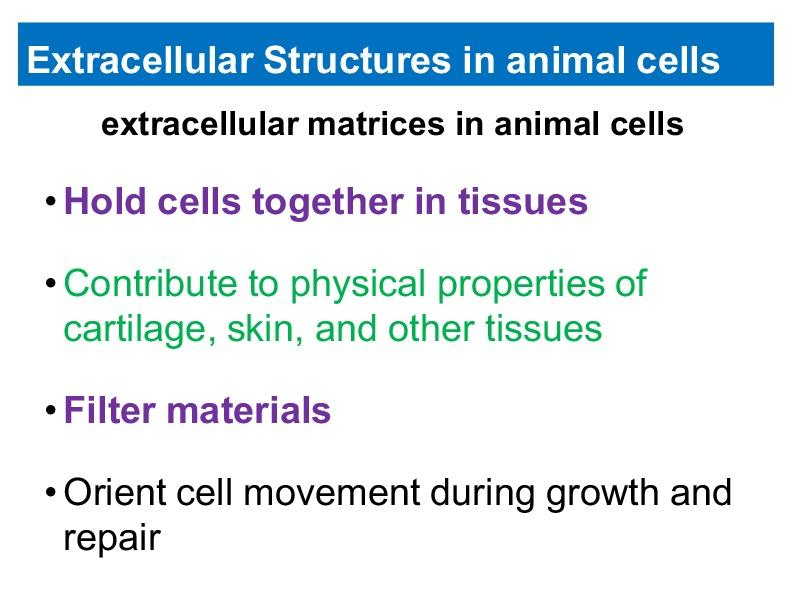paragraph: (31, 144, 747, 576)
title: (25, 38, 733, 87)
